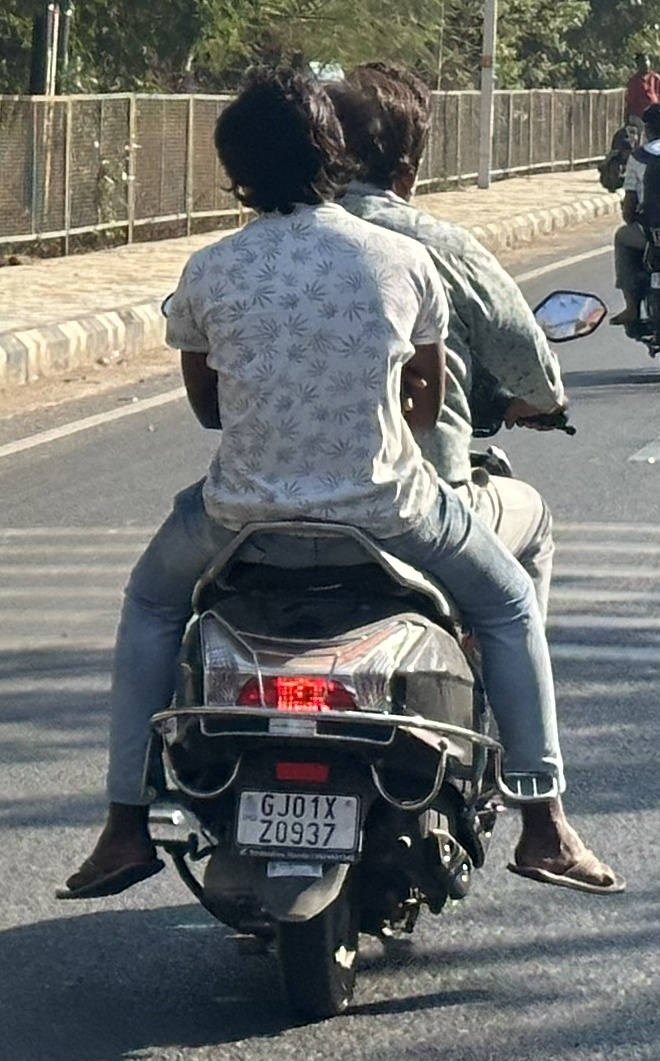BikeWithRider: (46, 64, 614, 1020)
NoHelmet: (209, 73, 349, 232), (308, 62, 440, 221)
